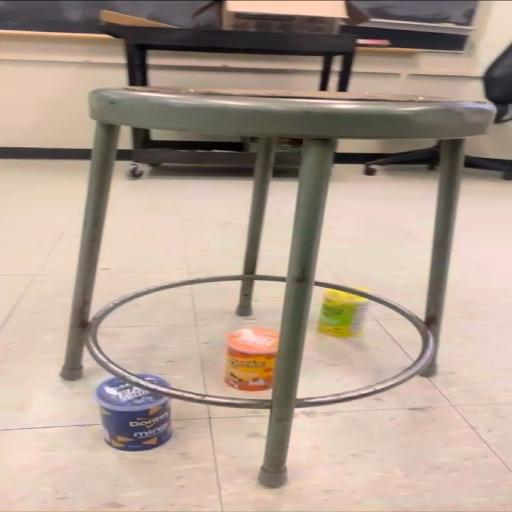pringle can: (95, 378, 171, 450), (227, 326, 281, 391), (315, 291, 376, 339)
